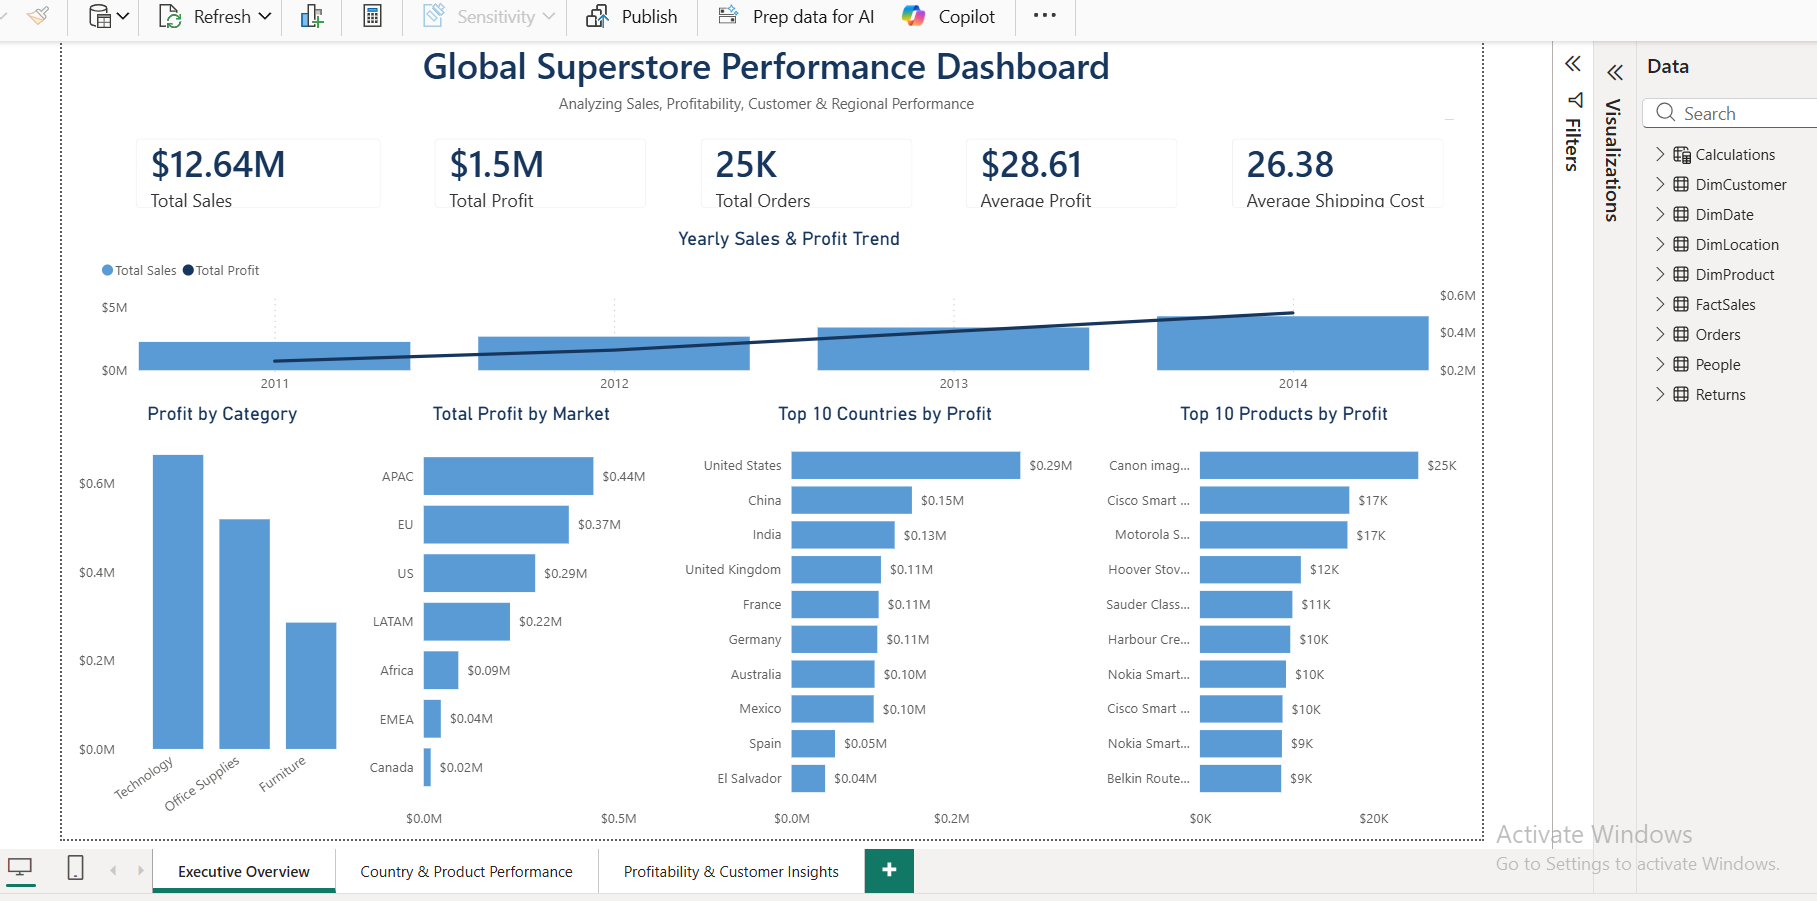

The page's visual inventory and layout, read from the dashboard file:
{"tool":"powerbi","page":{"name":"Executive Overview","canvas":[1280,720],"ordinal":0},"visuals":[{"type":"textbox","title":"Global Superstore Performance Dashboard","box":[9.6,0,1250.1,85.1],"z":0},{"type":"cardVisual","fields":{"Data":["Calculations.Total Sales"]},"box":[49.4,71.4,255,97.4],"z":1000,"group":"g1"},{"type":"lineStackedColumnComboChart","title":"Yearly Sales & Profit Trend","fields":{"Category":["DimDate.Year"],"Y":["Calculations.Total Sales"],"Y2":["Calculations.Total Profit"]},"box":[30.2,167.4,1250.1,159.2],"z":1000},{"type":"cardVisual","fields":{"Data":["Calculations.Total Profit"]},"box":[318.9,71.4,225,97.4],"z":2000,"group":"g1"},{"type":"clusteredColumnChart","title":"Profit by Category","fields":{"Category":["DimProduct.Category"],"Y":["Calculations.Total Profit"]},"box":[9.6,326.2,269,393.8],"z":2000},{"type":"cardVisual","fields":{"Data":["Calculations.Total Orders"]},"box":[558.4,71.4,225,97.4],"z":3000,"group":"g1"},{"type":"clusteredBarChart","fields":{"Y":["Calculations.Total Profit"],"Category":["DimLocation.Market"]},"box":[269.4,326.2,289.5,393.8],"z":3000},{"type":"cardVisual","fields":{"Data":["Calculations.Average Profit"]},"box":[797.9,71.4,225,97.4],"z":4000,"group":"g1"},{"type":"clusteredBarChart","title":"Top 10 Countries by Profit","fields":{"Category":["DimLocation.Country"],"Y":["Calculations.Total Profit"]},"box":[549.8,326.2,384.2,393.8],"z":4000},{"type":"cardVisual","fields":{"Data":["Calculations.Average Shipping Cost"]},"box":[1037.4,71.4,225,97.4],"z":5000,"group":"g1"},{"type":"clusteredBarChart","title":"Top 10 Products by Profit","fields":{"Y":["Calculations.Total Profit"],"Category":["DimProduct.Product Name"]},"box":[924.6,326.2,355.4,393.8],"z":5000},{"type":"group","id":"g1","title":"Group 1","box":[49.4,71.4,1213,97.4],"z":6000}]}

Visuals, with their boxes on the page's 1280x720 design canvas (x1, y1, x2, y2). These are canvas units, not pixel positions in the 1817x901 screenshot, which may show the page scaled, cropped or inside an application window:
"Global Superstore Performance Dashboard" textbox: locate(10, 0, 1260, 85)
cardVisual - Calculations.Total Sales: locate(49, 71, 304, 169)
"Yearly Sales & Profit Trend" lineStackedColumnComboChart: locate(30, 167, 1280, 327)
cardVisual - Calculations.Total Profit: locate(319, 71, 544, 169)
"Profit by Category" clusteredColumnChart: locate(10, 326, 279, 720)
cardVisual - Calculations.Total Orders: locate(558, 71, 783, 169)
clusteredBarChart - Calculations.Total Profit x DimLocation.Market: locate(269, 326, 559, 720)
cardVisual - Calculations.Average Profit: locate(798, 71, 1023, 169)
"Top 10 Countries by Profit" clusteredBarChart: locate(550, 326, 934, 720)
cardVisual - Calculations.Average Shipping Cost: locate(1037, 71, 1262, 169)
"Top 10 Products by Profit" clusteredBarChart: locate(925, 326, 1280, 720)
"Group 1" group: locate(49, 71, 1262, 169)
